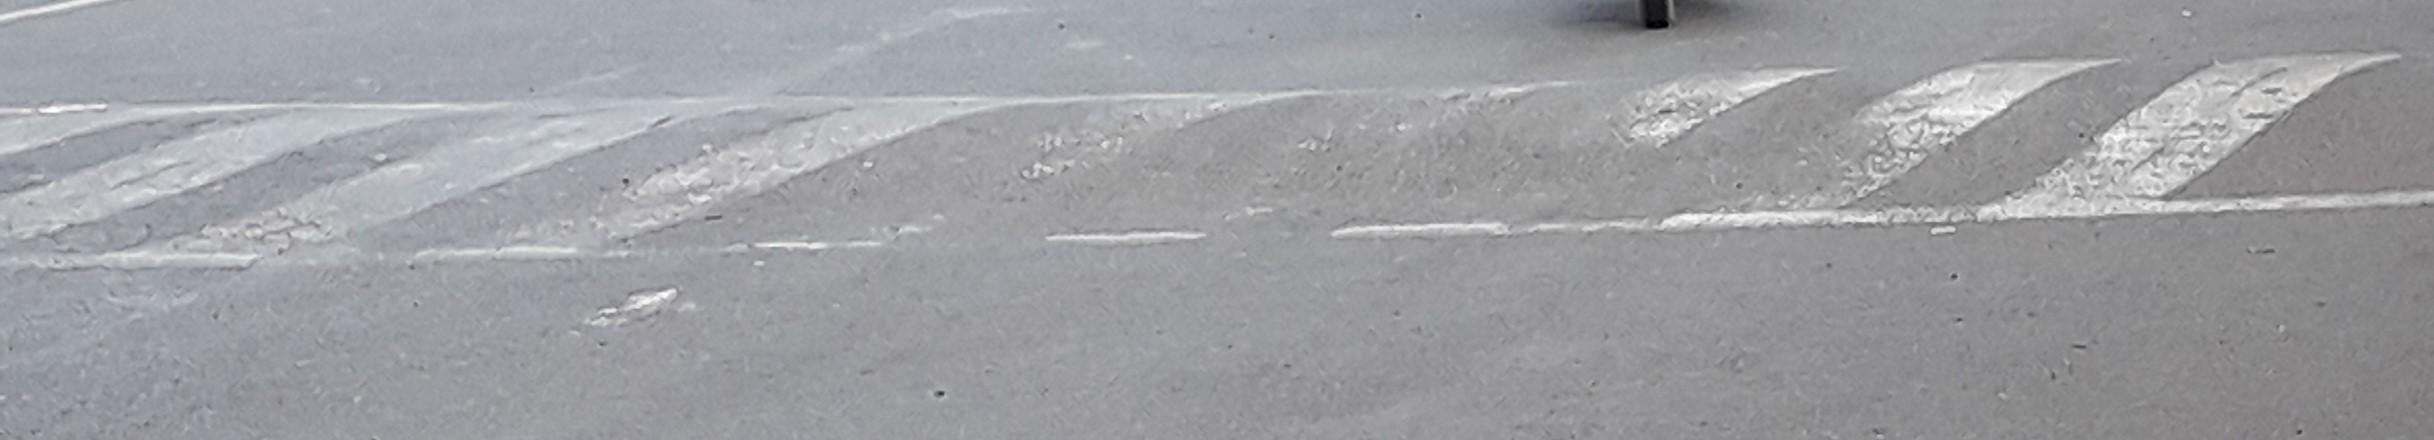speed-bump: (11, 43, 2420, 271)
